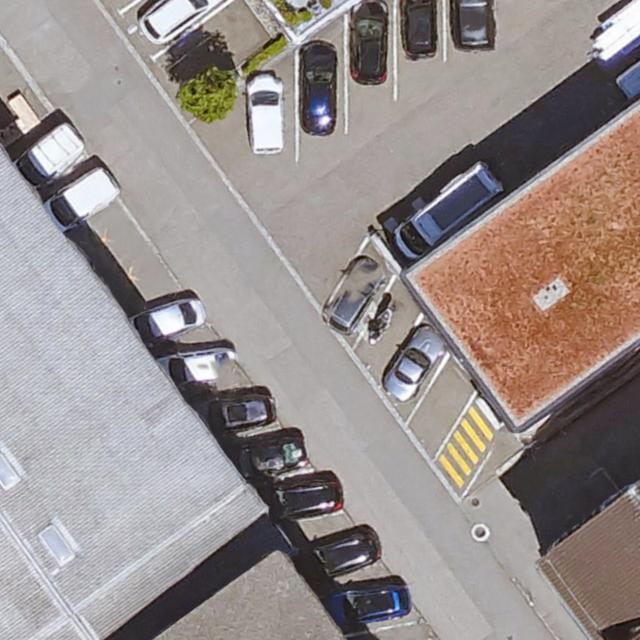tree: (178, 65, 234, 120)
